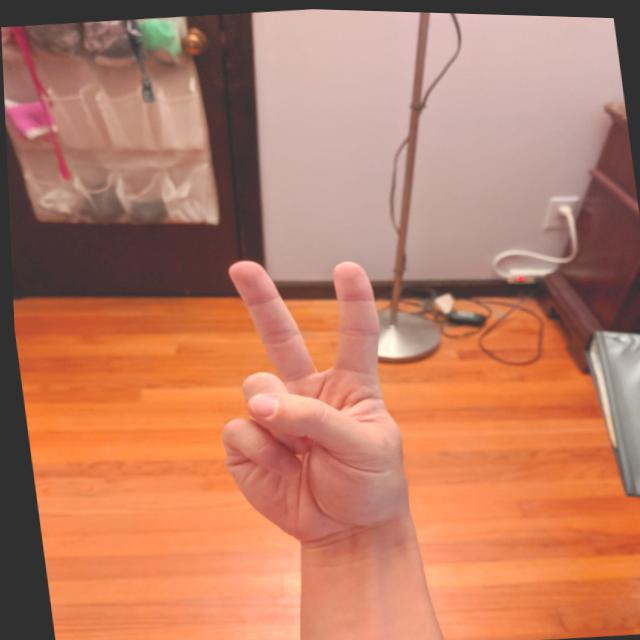V: (190, 241, 419, 557)
